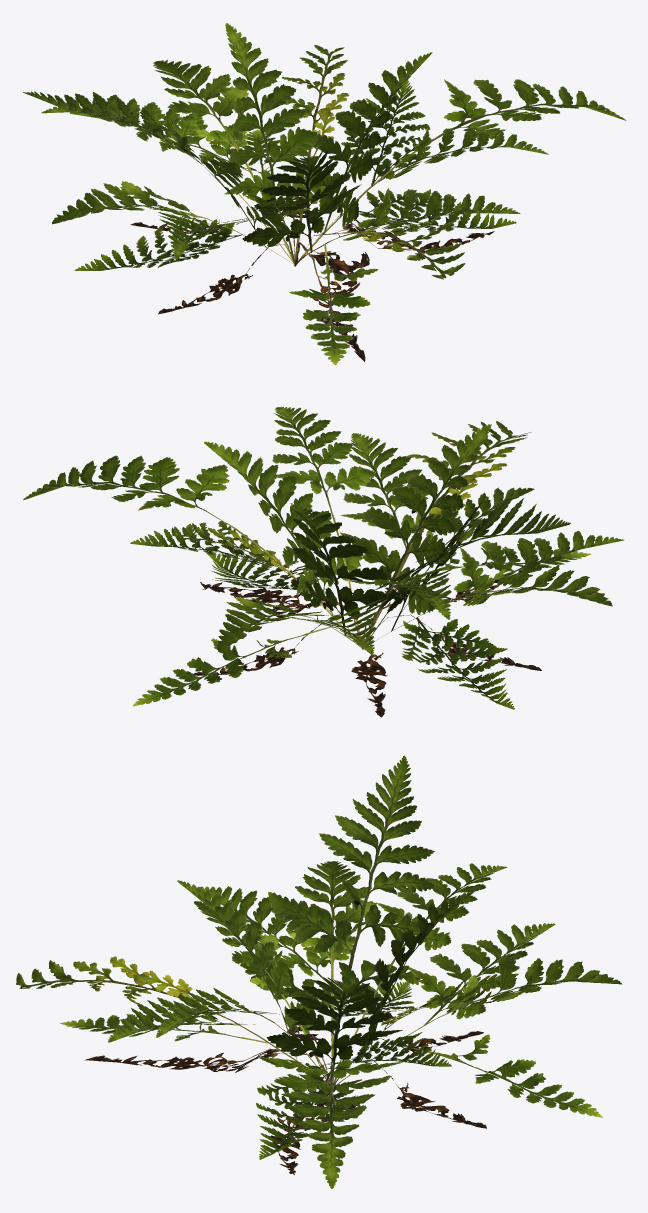
Rendered from LeatherFernHighDetail.fbx.
3 renders of one model, top to bottom at view 1: azimuth 30°, elevation 25°; view 2: azimuth 150°, elevation 25°; view 3: azimuth 270°, elevation 25°, orthographic. The views are drawn at different scales.
Visible parts, largest first — view 1: _e381_VarA_LOD1; view 2: _e381_VarA_LOD1; view 3: _e381_VarA_LOD1.
Part boxes in pixels (x1=…): _e381_VarA_LOD1: x1=23, y1=23, x2=626, y2=365; _e381_VarA_LOD1: x1=23, y1=406, x2=624, y2=717; _e381_VarA_LOD1: x1=16, y1=755, x2=622, y2=1188.
Size of the model in its own units: 145 by 49.96 by 127.
